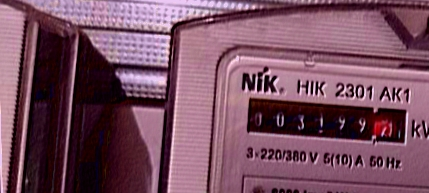0: (249, 107, 262, 126), (272, 107, 283, 126)
1: (314, 107, 323, 126)
3: (293, 111, 302, 130)
6: (376, 122, 387, 139)
9: (354, 114, 364, 132), (334, 111, 343, 129)
screen: (237, 88, 412, 153)
